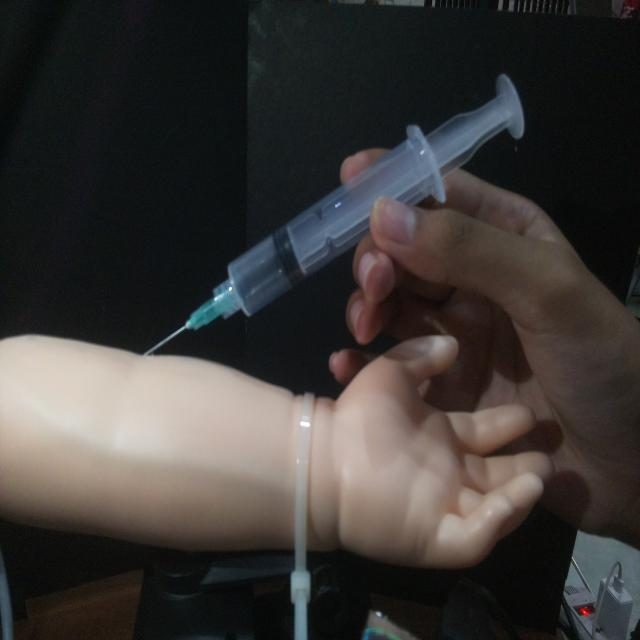29deg: (137, 69, 528, 359)
